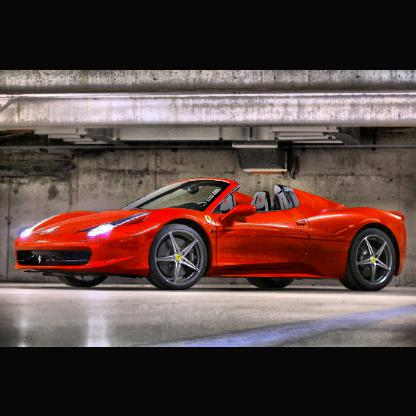Ferrari 458 Italia Convertible 2012: (14, 179, 406, 292)
